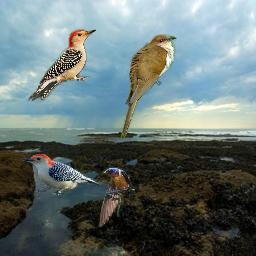Cuckoo: (120, 34, 177, 139)
Swallow: (98, 167, 136, 227)
Woodpecker: (28, 29, 96, 102), (21, 154, 99, 196)
